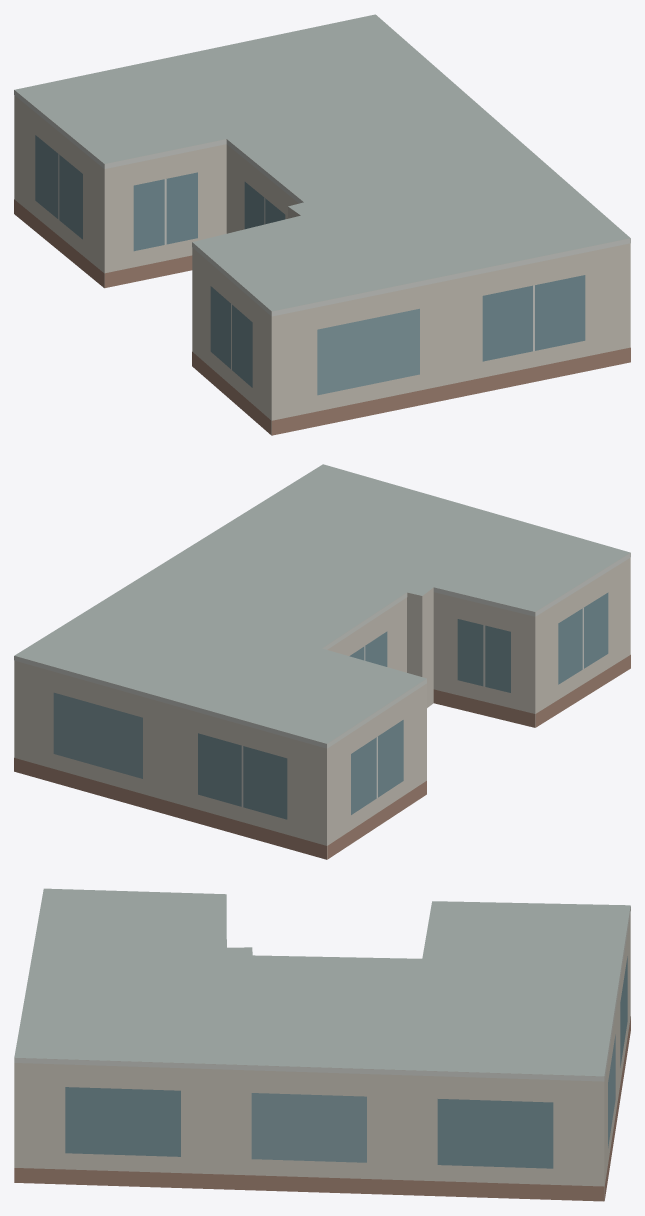
The model's file is survey-upis-32760457.glb.
The picture shows the model from 3 angles, top to bottom: view 1: azimuth 30°, elevation 25°; view 2: azimuth 150°, elevation 25°; view 3: azimuth 270°, elevation 25°; orthographic projection. The views are drawn at different scales.
Visible parts, largest first — view 1: survey-upis-32760457.tmp; view 2: survey-upis-32760457.tmp; view 3: survey-upis-32760457.tmp.
Part boxes in pixels (x1=…): survey-upis-32760457.tmp: x1=14, y1=14, x2=630, y2=435; survey-upis-32760457.tmp: x1=14, y1=464, x2=630, y2=859; survey-upis-32760457.tmp: x1=14, y1=888, x2=630, y2=1201.
Size of the model in its own units: 9.84 by 3.05 by 13.65.
